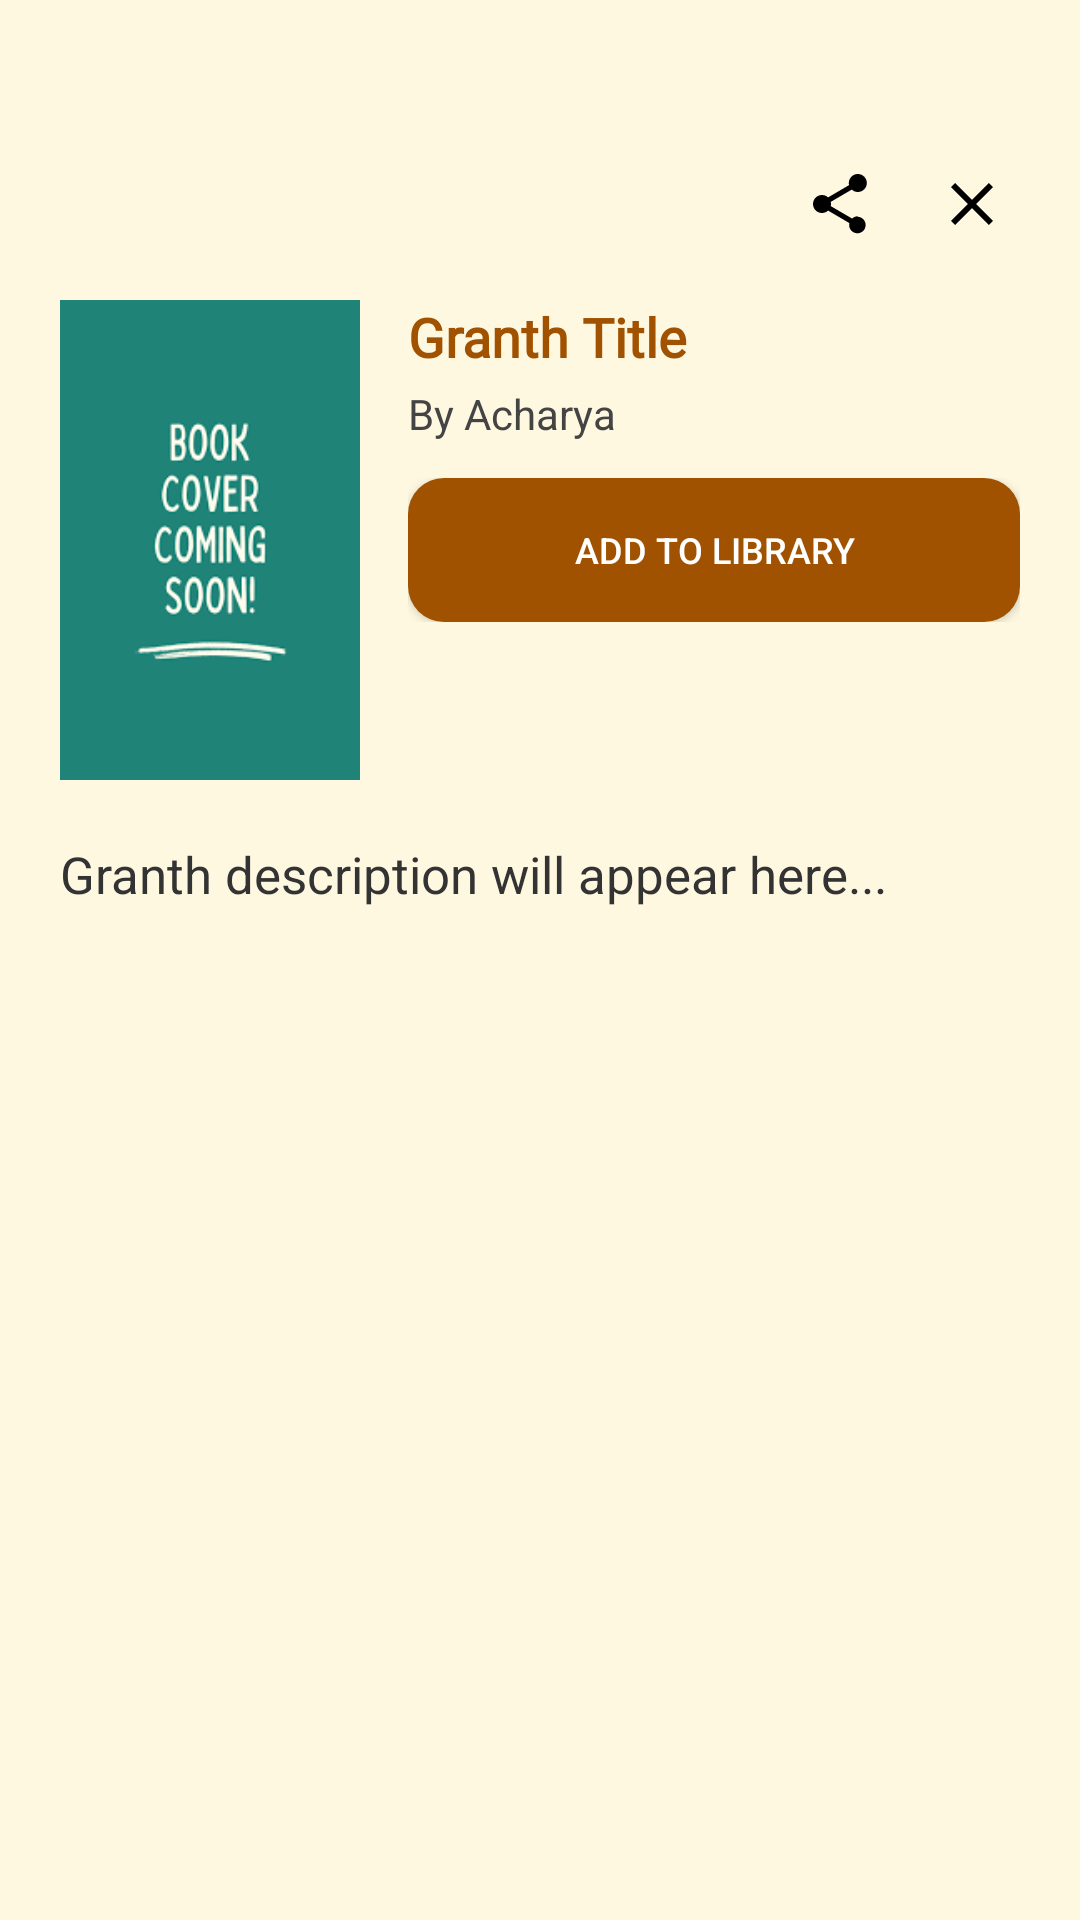

Where to tap for icons on this 1080 x 1920 app screen, as (x=x, y=y):
Close: (x=972, y=204)
Share: (x=840, y=204)
